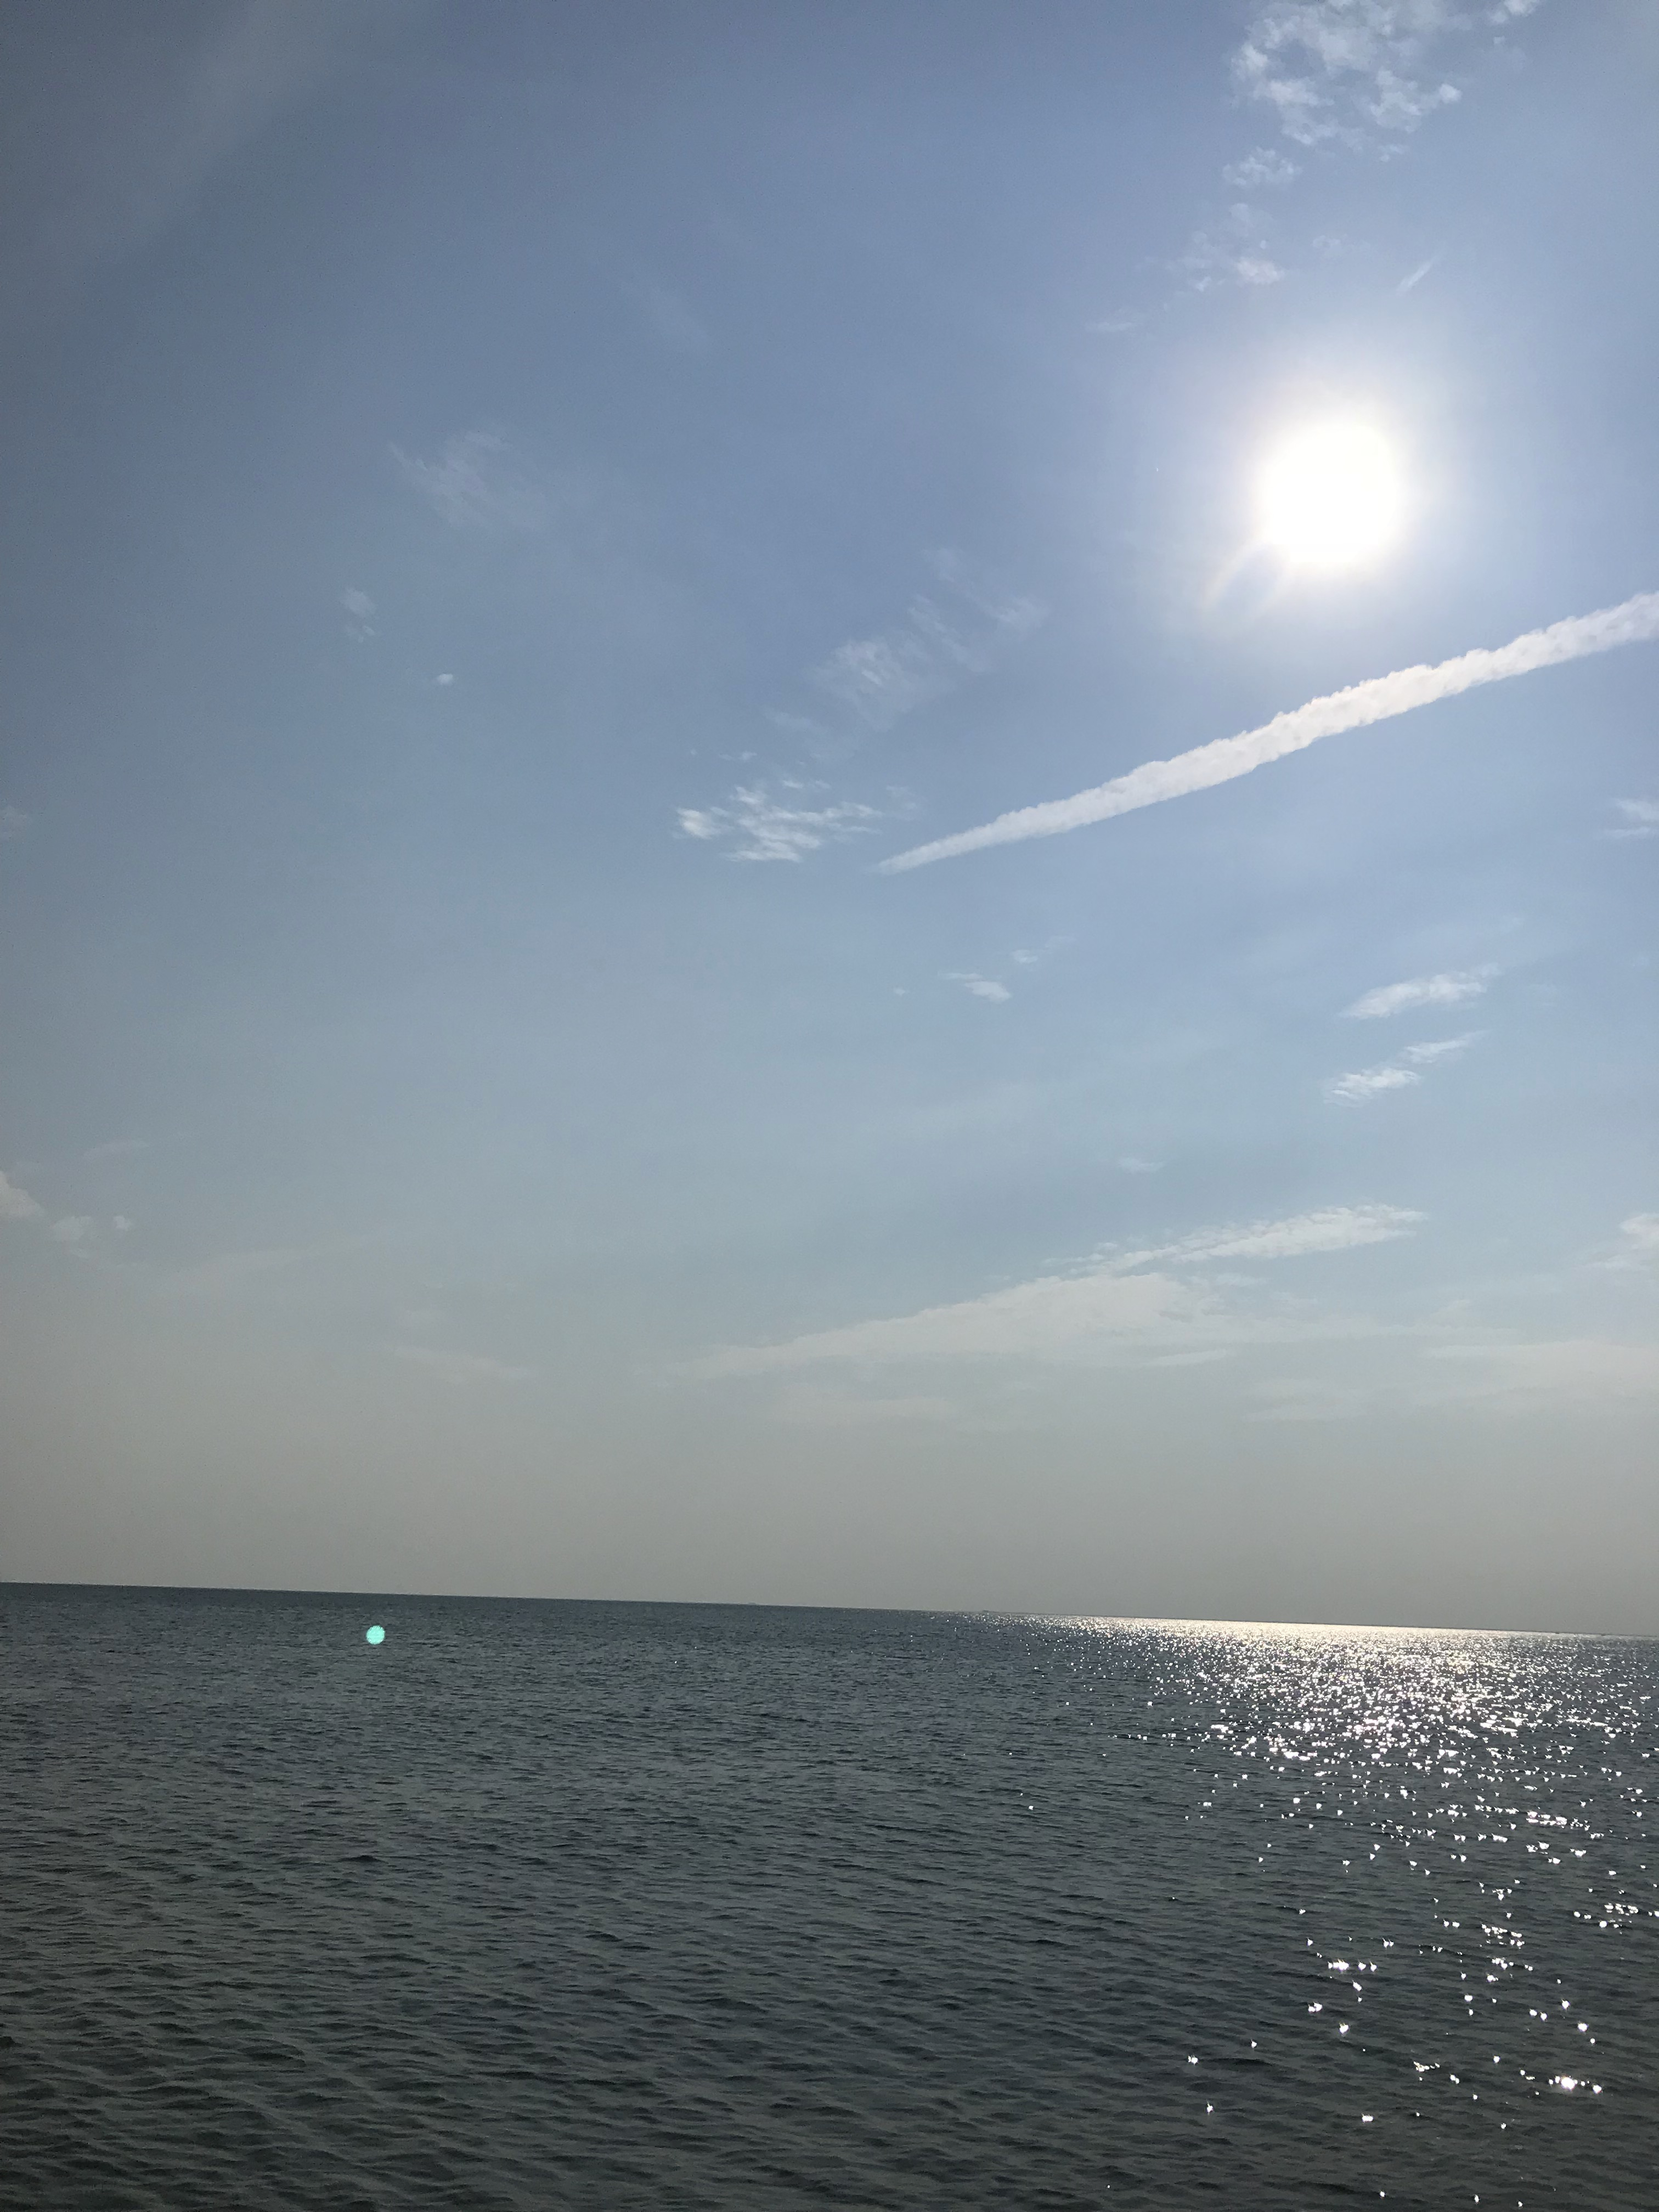flare: (364, 1623, 387, 1646)
